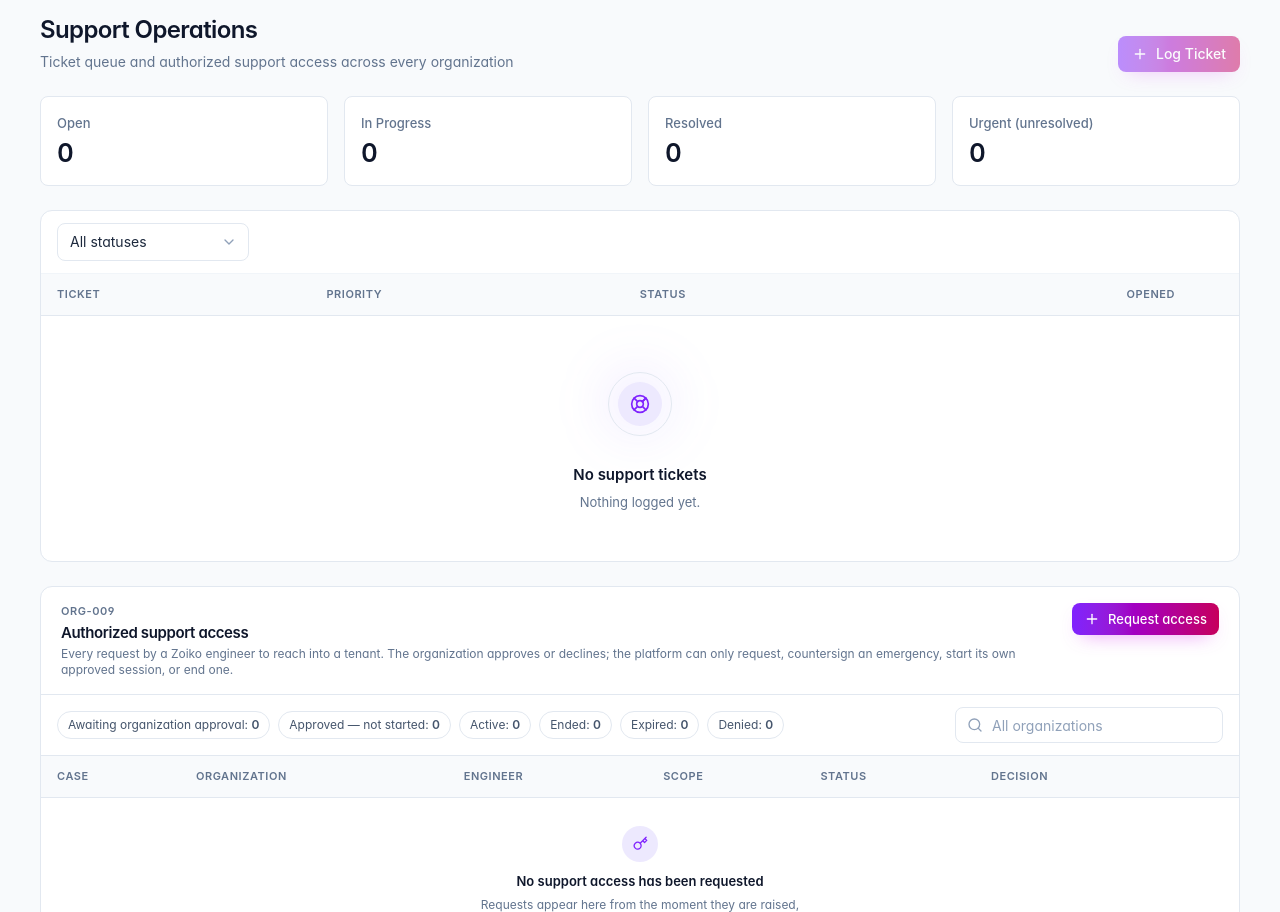
a filtered queue with no matches › says why it is empty instead of claiming nothing was ever logged
Expected: the text "Nothing logged yet." is shown, x1=580 y1=494 x2=700 y2=510
Select "Resolved" in the dropdown named "Filter by status" at (153, 242), box x1=57 y1=223 x2=249 y2=261
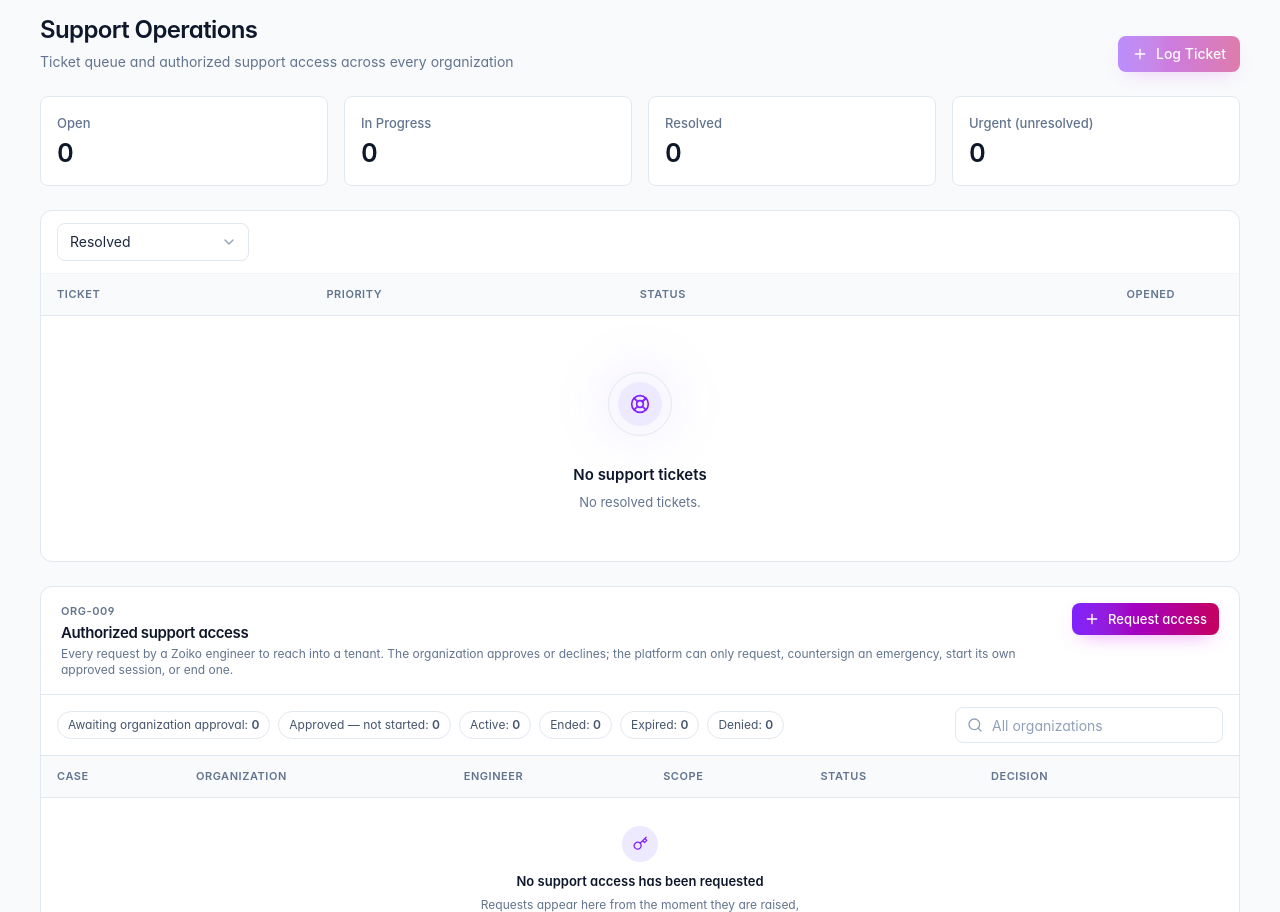
Expected: the text "No resolved tickets." is shown, x1=579 y1=494 x2=701 y2=510
Expected: the text "Nothing logged yet." is gone
